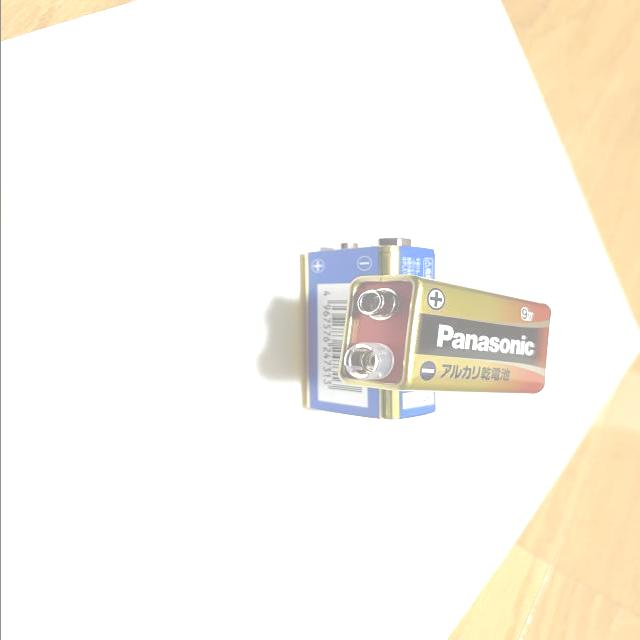9V: (334, 273, 552, 395), (298, 237, 435, 420)
